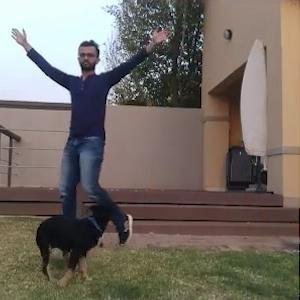takeoff: (14, 26, 183, 247)
